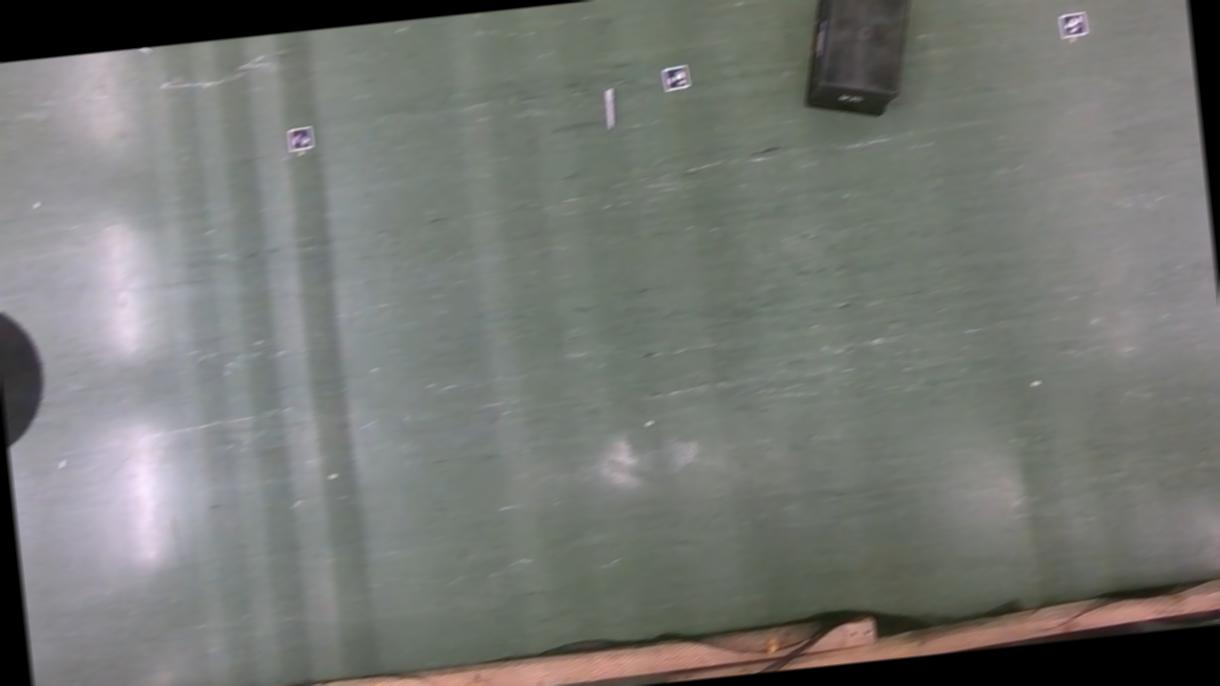probes: (118, 46, 150, 56)
rako: (792, 0, 926, 125)
